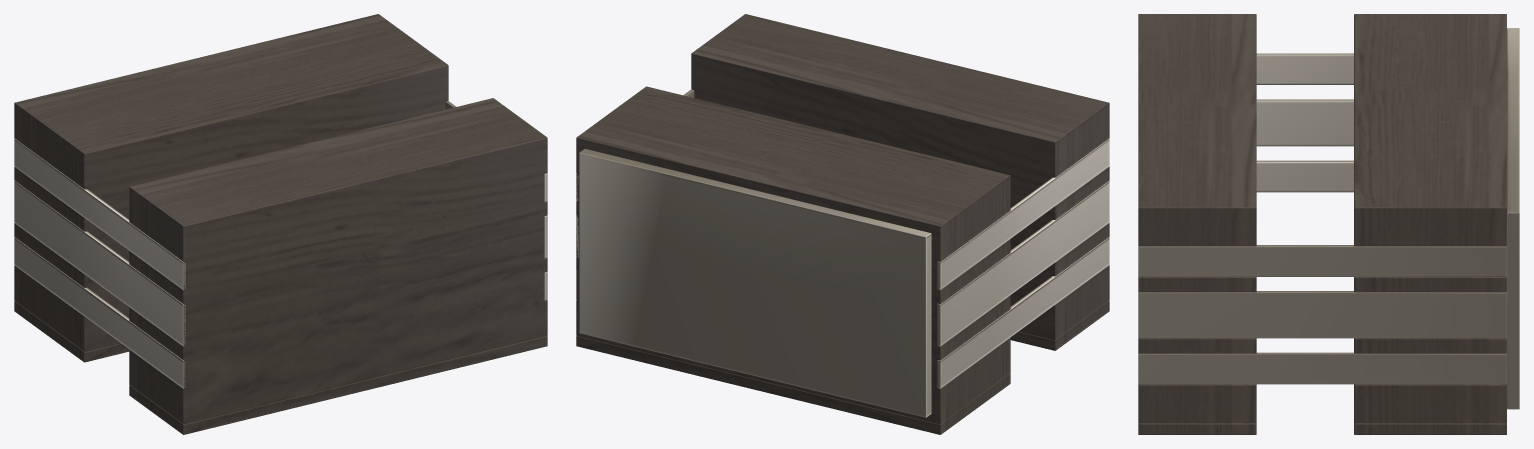
Rendered from raw_model.glb.
The picture shows the model from 3 angles, left to right: view 1: azimuth 30°, elevation 25°; view 2: azimuth 150°, elevation 25°; view 3: azimuth 270°, elevation 25°; orthographic projection. The views are drawn at different scales.
Visible parts, largest first — view 1: raw_model.001; view 2: raw_model.001; view 3: raw_model.001.
Boxes of the visible parts, box(x1,y1,x2,y2) form: raw_model.001: box(14, 14, 547, 434); raw_model.001: box(576, 14, 1109, 434); raw_model.001: box(1138, 14, 1519, 434).
Size of the model in its own units: 0.5418 by 0.3117 by 0.4506.
1 material, 1 textured.
